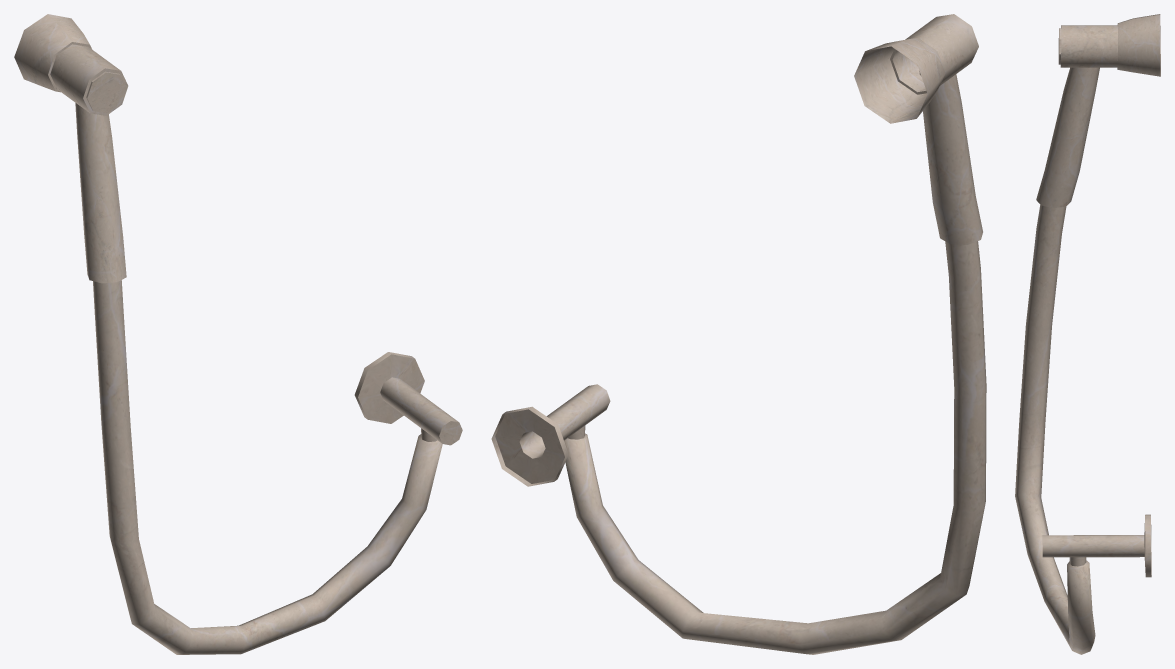
Rendered from Jettray.fbx.
The picture shows the model from 3 angles, left to right: view 1: azimuth 30°, elevation 25°; view 2: azimuth 150°, elevation 25°; view 3: azimuth 270°, elevation 25°; orthographic projection. The views are drawn at different scales.
Parts seen in each view (by area): view 1: prop_HW_Btr_Jetspray; view 2: prop_HW_Btr_Jetspray; view 3: prop_HW_Btr_Jetspray.
Part boxes in pixels (x1,y1,x2,y2): prop_HW_Btr_Jetspray: (14,14,462,654); prop_HW_Btr_Jetspray: (491,14,986,654); prop_HW_Btr_Jetspray: (1015,14,1160,654).
Size of the model in its own units: 0.1173 by 0.1753 by 0.0427.
